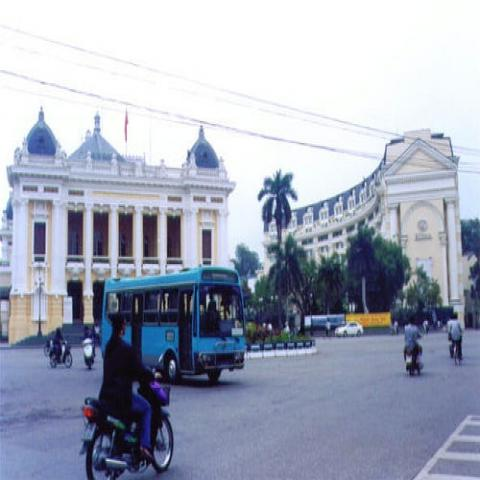bus: (98, 265, 247, 378)
car: (334, 321, 364, 337)
motorcycle: (80, 380, 176, 474), (49, 341, 72, 368), (82, 334, 94, 370), (405, 348, 421, 374), (450, 340, 462, 363), (448, 334, 453, 357)
